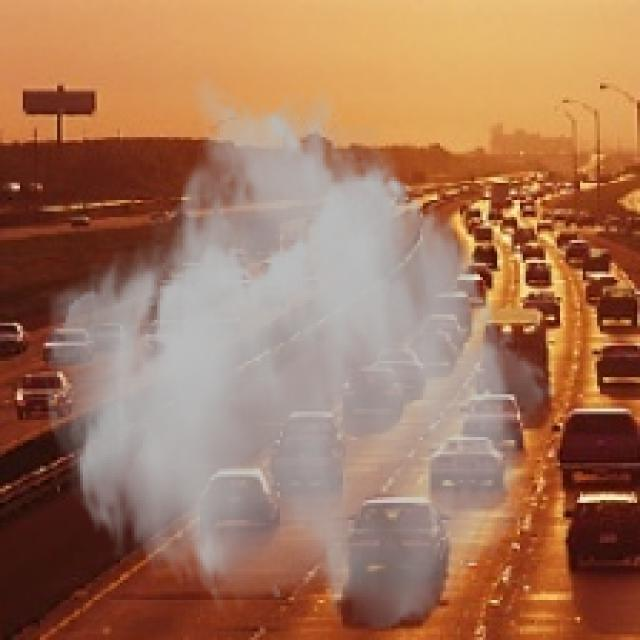smoke: (40, 71, 557, 634)
